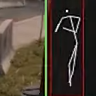hacks_3: (44, 1, 84, 96)
